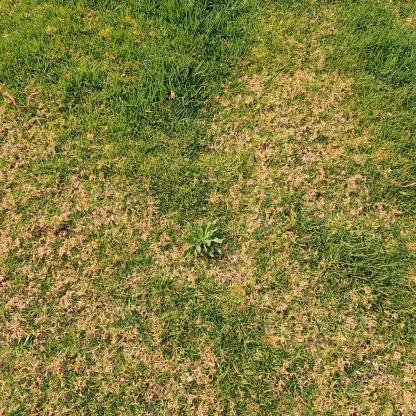Weeds: (180, 219, 223, 258)
